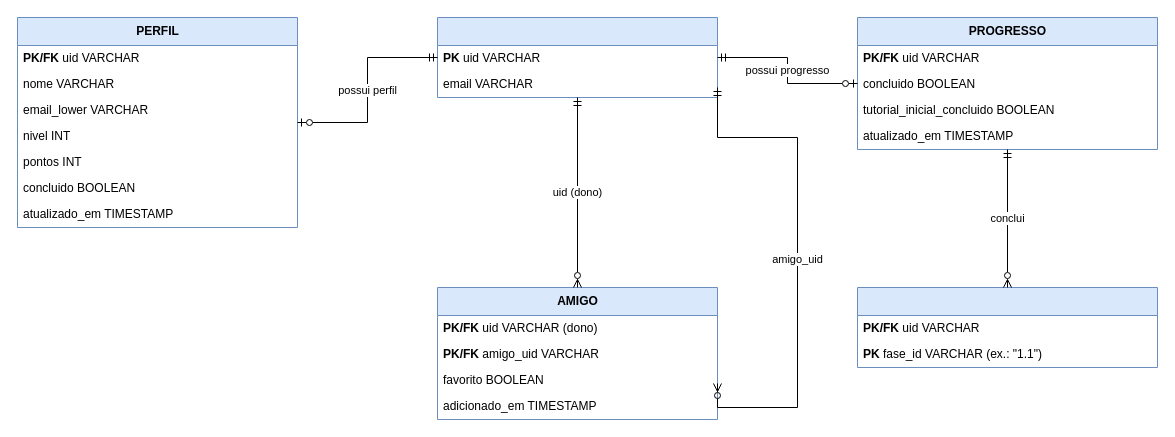
Image size: 1175x437. Some labels were removed from this diagram. The box of each missing label's shape, as (x1, y1, x2, y2) in pixels:
FASE_CONCLUIDA: (856, 286, 1158, 368)
USUARIO: (436, 16, 718, 98)
